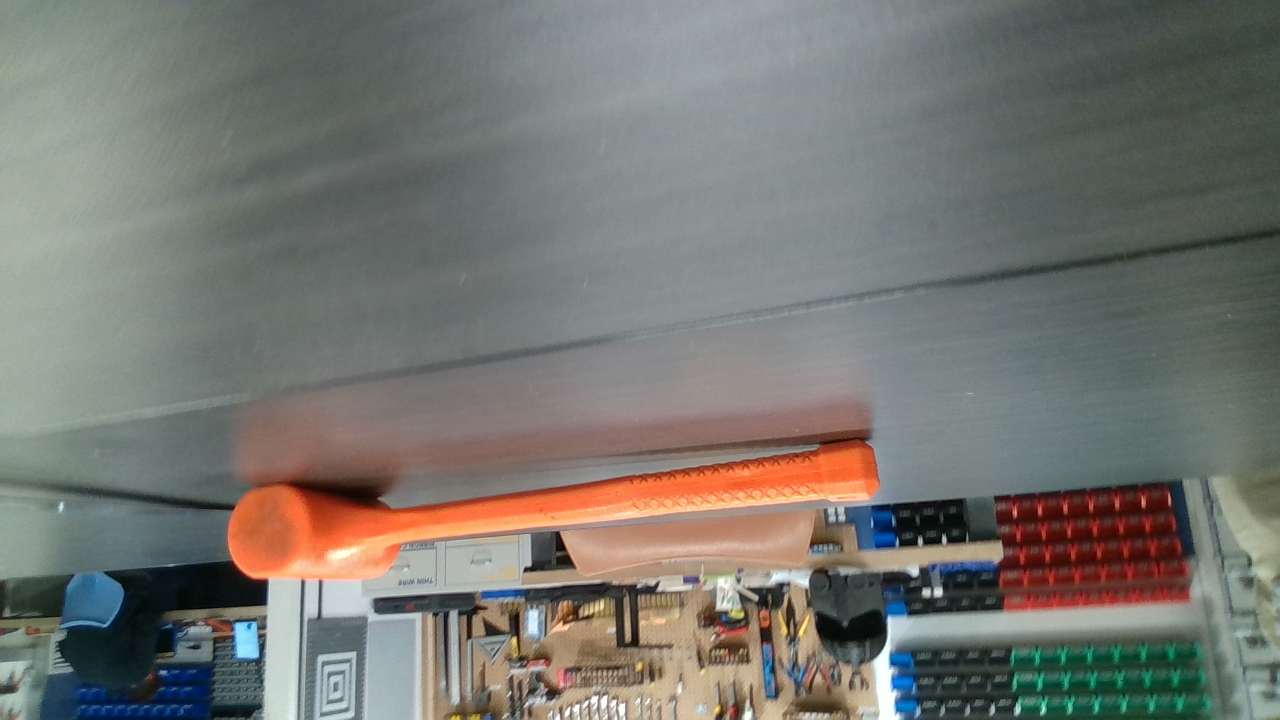Orange Hammer: (230, 437, 878, 579)
